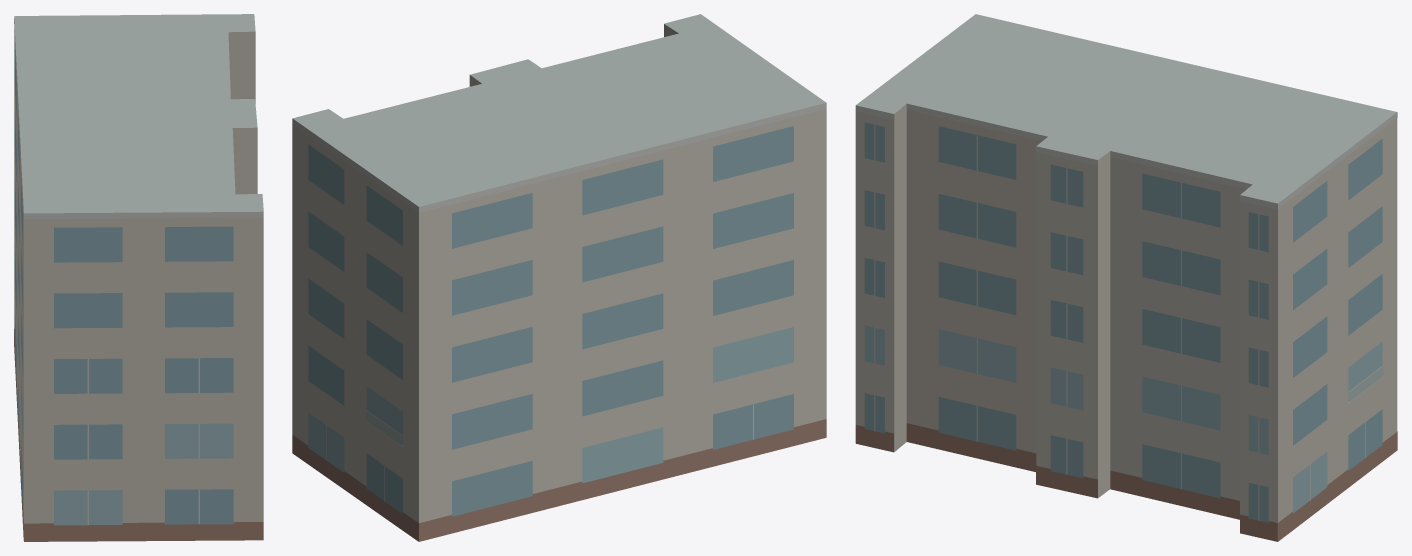
Rendered from survey-upis-32876031.glb.
3 views of the same model, side by side, from view 1: azimuth 30°, elevation 25°; view 2: azimuth 150°, elevation 25°; view 3: azimuth 270°, elevation 25° (orthographic). The views are drawn at different scales.
Visible parts, largest first — view 1: survey-upis-32876031.tmp; view 2: survey-upis-32876031.tmp; view 3: survey-upis-32876031.tmp.
Boxes of the visible parts, x1,y1,x2,y2 form: survey-upis-32876031.tmp: (14, 14, 263, 541); survey-upis-32876031.tmp: (292, 14, 826, 541); survey-upis-32876031.tmp: (855, 14, 1397, 541).
Bounding box in the file's own units: 16.71 × 13.9 × 20.18.
